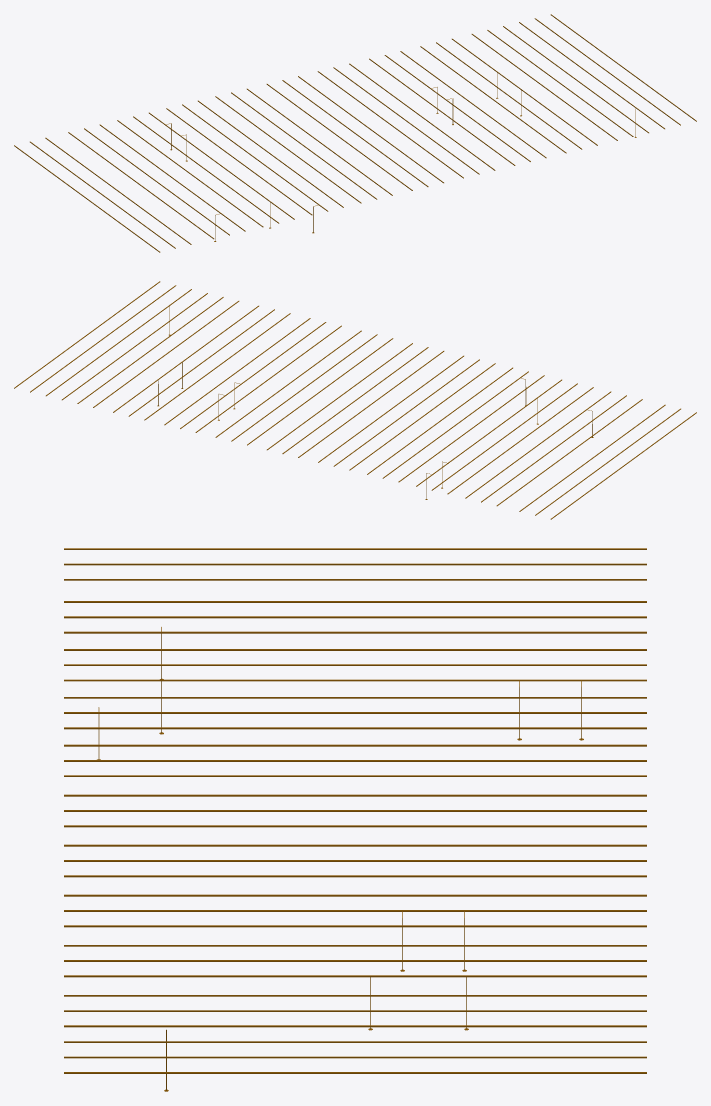
Rendered from TELLUS_arena_YellowPillars.FBX.
The picture shows the model from 3 angles, top to bottom: view 1: azimuth 30°, elevation 25°; view 2: azimuth 150°, elevation 25°; view 3: azimuth 270°, elevation 25°; orthographic projection. The views are drawn at different scales.
Visible parts, largest first — view 1: TELLUS_arena_YellowPillars; view 2: TELLUS_arena_YellowPillars; view 3: TELLUS_arena_YellowPillars.
Boxes of the visible parts, x1,y1,x2,y2 form: TELLUS_arena_YellowPillars: (14, 14, 696, 252); TELLUS_arena_YellowPillars: (14, 281, 696, 519); TELLUS_arena_YellowPillars: (64, 548, 646, 1091).
Size of the model in its own units: 6347 by 2981 by 348.
